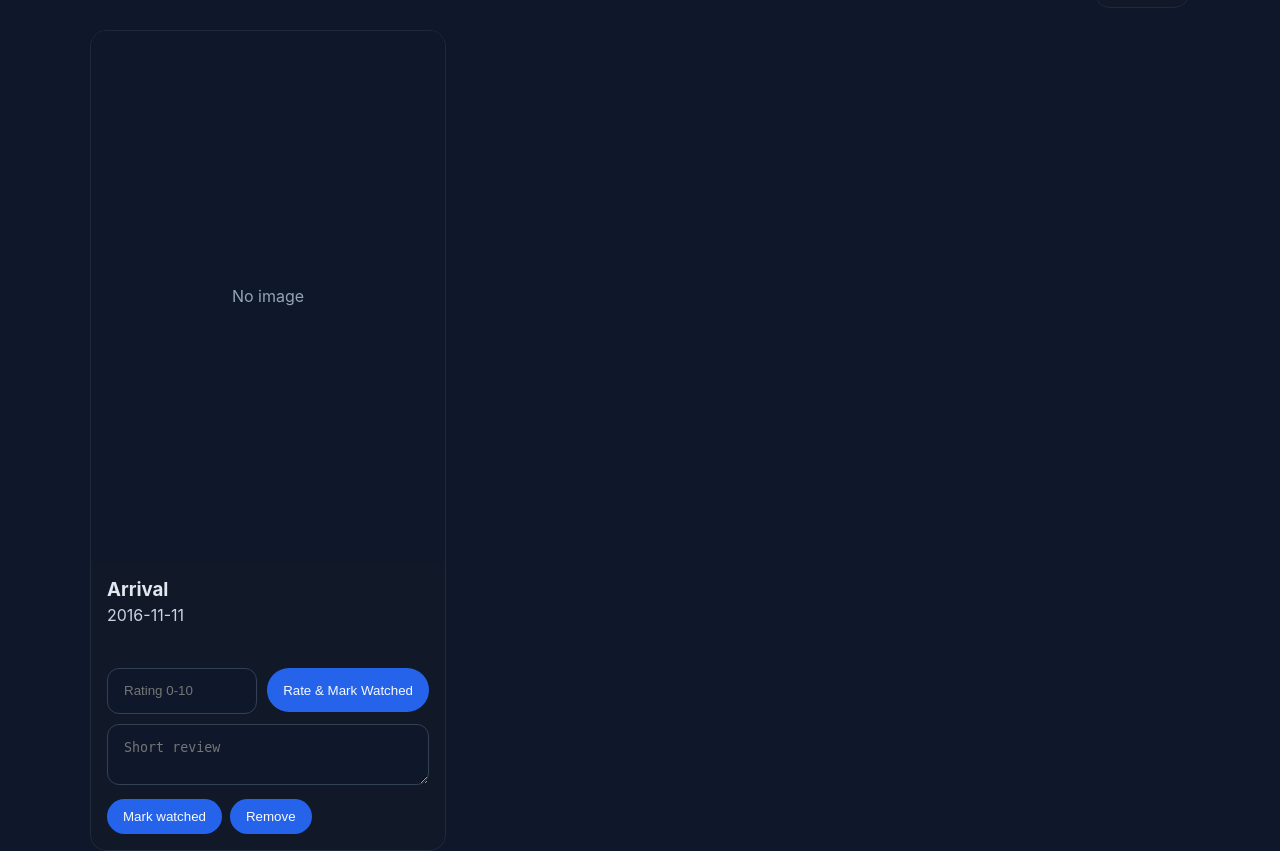
Test: marks a watchlist movie as watched
(page scrolled)
Expected: the heading "Arrival" is shown, [107,578,168,601]
Click the button "Mark watched".
click(164, 816)  # box [107,799,222,834]
(page scrolled)
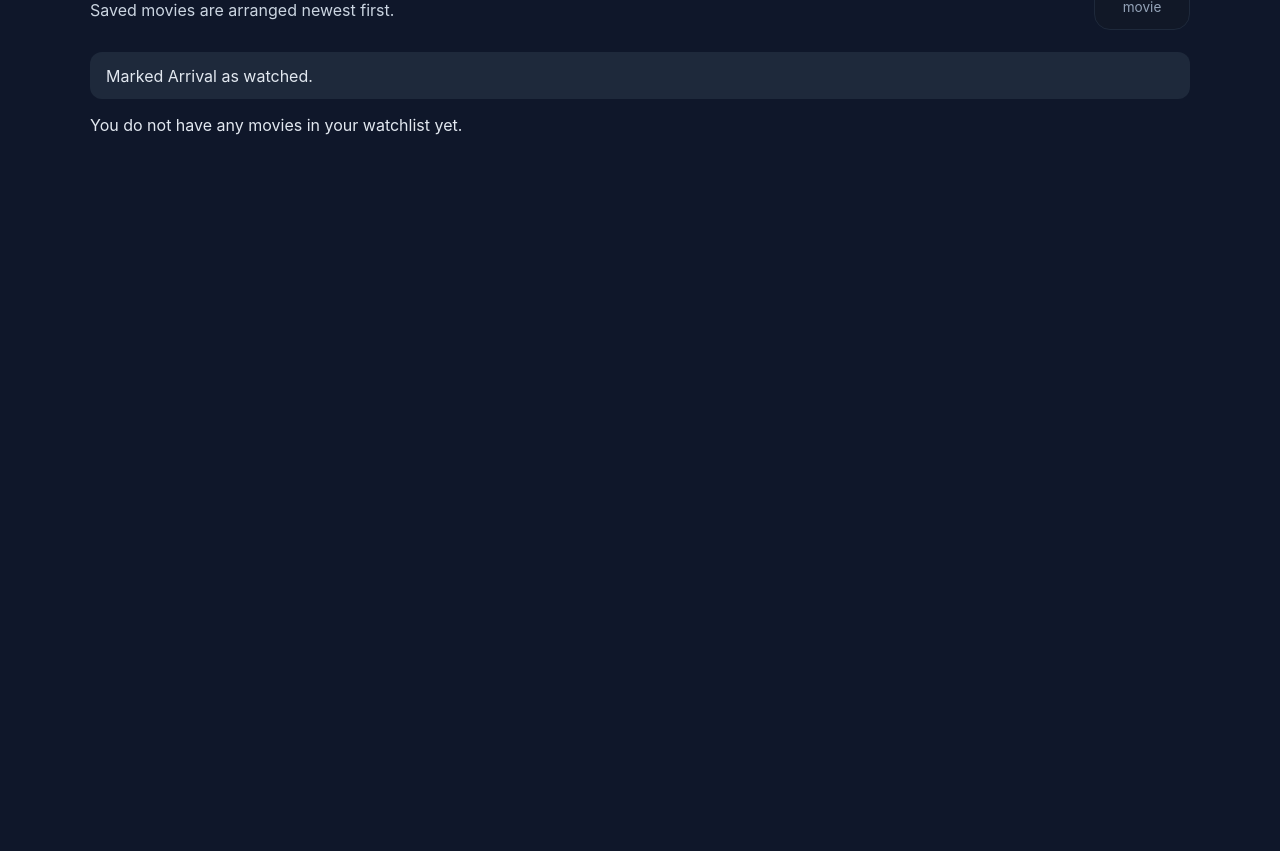
Now the text "Marked Arrival as watched." is shown, box [90,52,1190,99]
